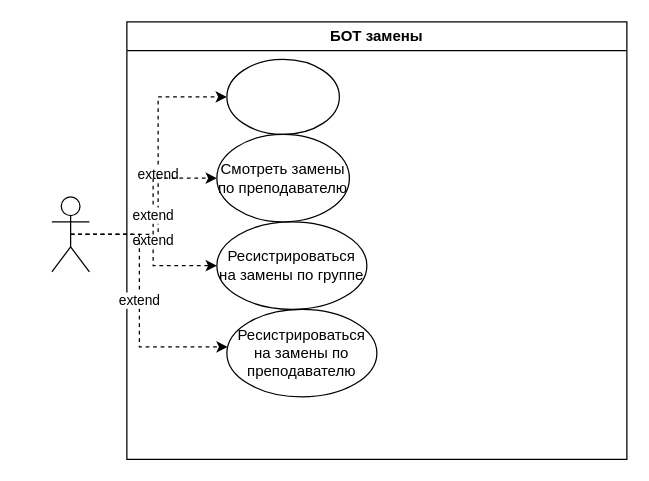
This 649x481 diagram has some shape labels left out. The shapes that lost their labels are listed below. From the top down, each one's box as (x1, y1, x2, y2) in pixels, then its label:
(226, 58, 339, 134): Смотреть замены по группе
(51, 196, 89, 272): Пользователь
